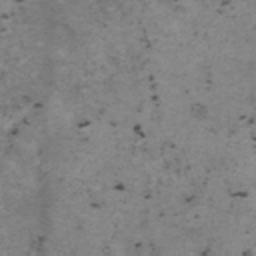Oxide scale of temperature system: (132, 73, 177, 148), (8, 93, 44, 136), (143, 192, 196, 218), (90, 182, 124, 209), (0, 0, 27, 32), (200, 244, 253, 256), (29, 236, 50, 256), (229, 189, 250, 200), (141, 29, 151, 49), (239, 114, 255, 125), (76, 120, 92, 128), (219, 0, 232, 6), (133, 241, 142, 248)
